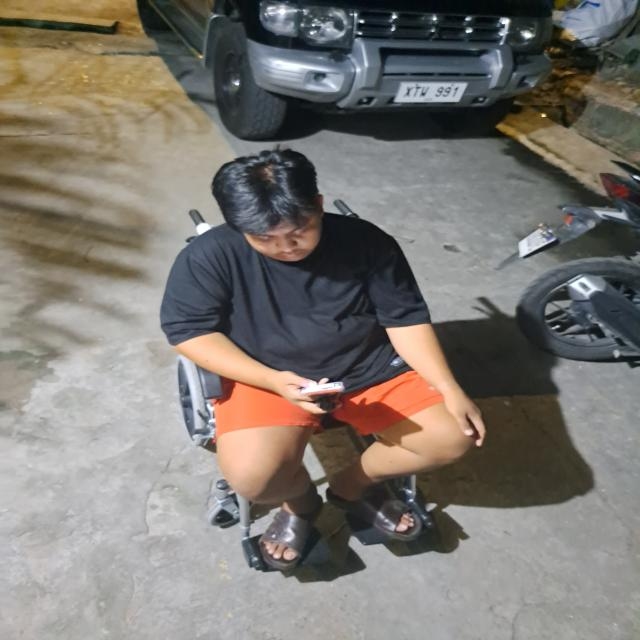wheelchairs: (175, 196, 432, 572)
